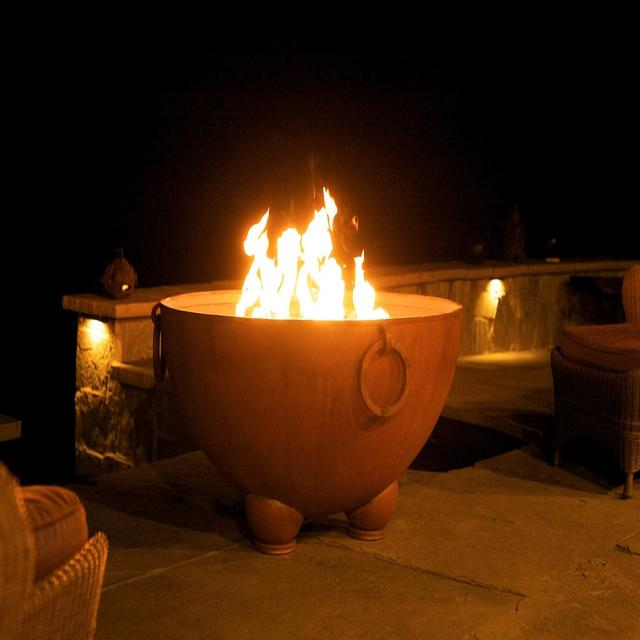fire: (234, 186, 390, 320)
